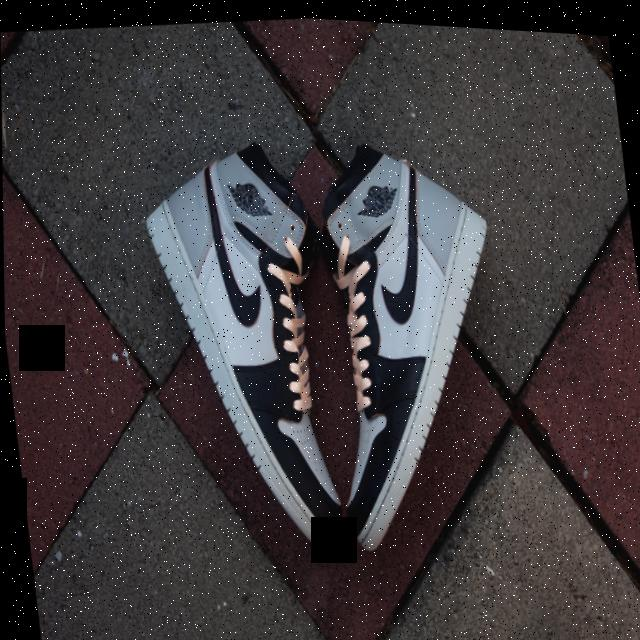shoes: (300, 122, 528, 561), (136, 125, 353, 569)
